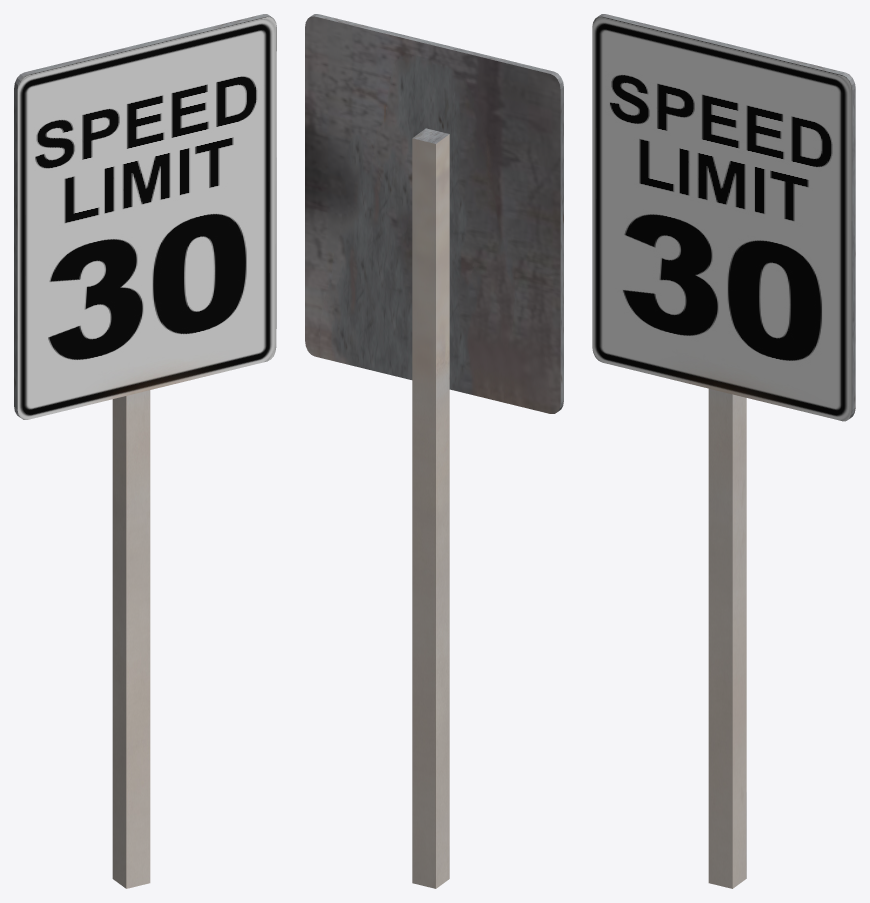
File: sign.glb
The picture shows the model from 3 angles, left to right: view 1: azimuth 30°, elevation 25°; view 2: azimuth 150°, elevation 25°; view 3: azimuth 330°, elevation 25°; orthographic projection.
Visible parts, largest first — view 1: Plane; view 2: Plane; view 3: Plane.
Boxes of the visible parts, box(x1,y1,x2,y2) form: Plane: box(14, 14, 276, 888); Plane: box(305, 14, 563, 888); Plane: box(592, 14, 855, 888).
Bounding box in the file's own units: 0.6625 × 2.05 × 0.0771.
1 material, 1 textured.
